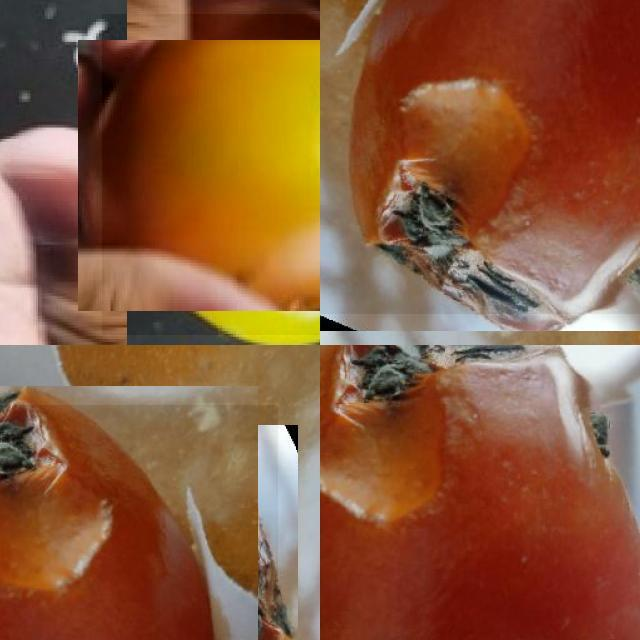Rotten Tomato: (320, 0, 640, 314), (320, 345, 640, 640), (102, 14, 320, 335), (0, 405, 278, 640)
